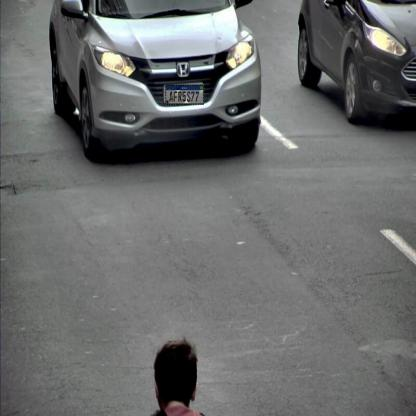PlacaM: (165, 84, 204, 104)
